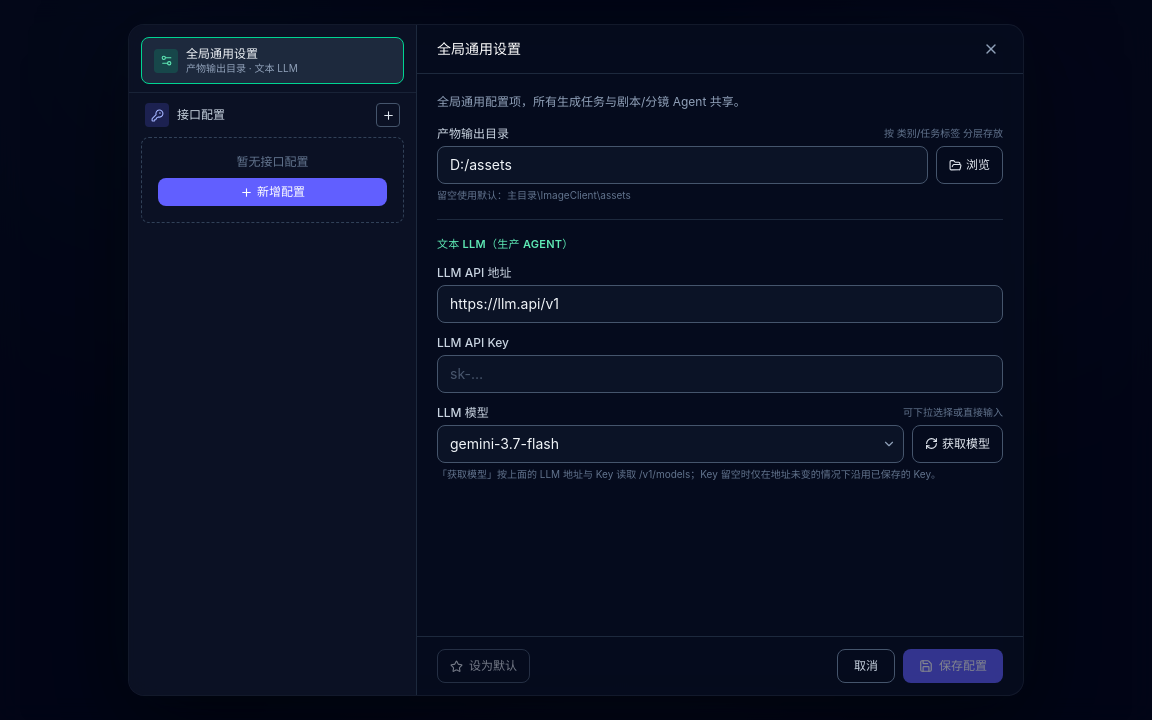
Test case: SettingsPage › fetches the LLM catalog from the global settings view
Expected: the field showing "D:/assets" is shown, [437,146,928,184]
# The form never holds the stored LLM key, so the backend borrows it.
Click the button with aria-label "获取模型（LLM 模型）" at (958, 444), box [912,424,1003,462]
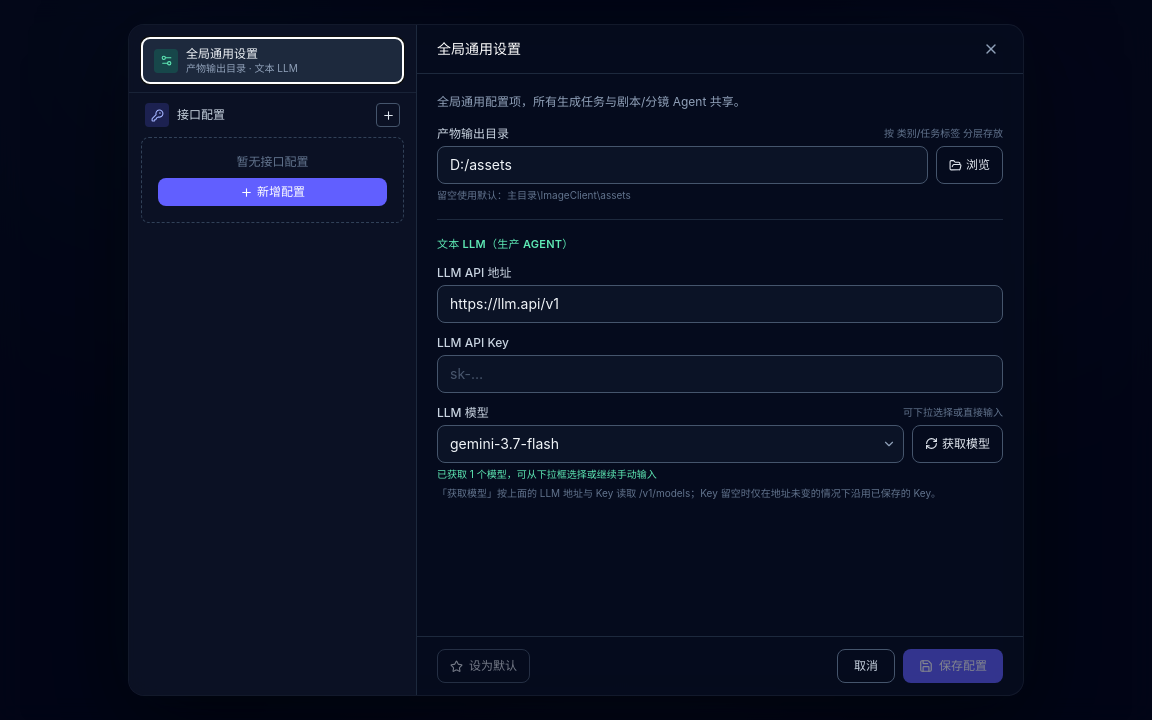
Click the button named "展开LLM 模型列表" at (889, 444), box [878,432,900,454]
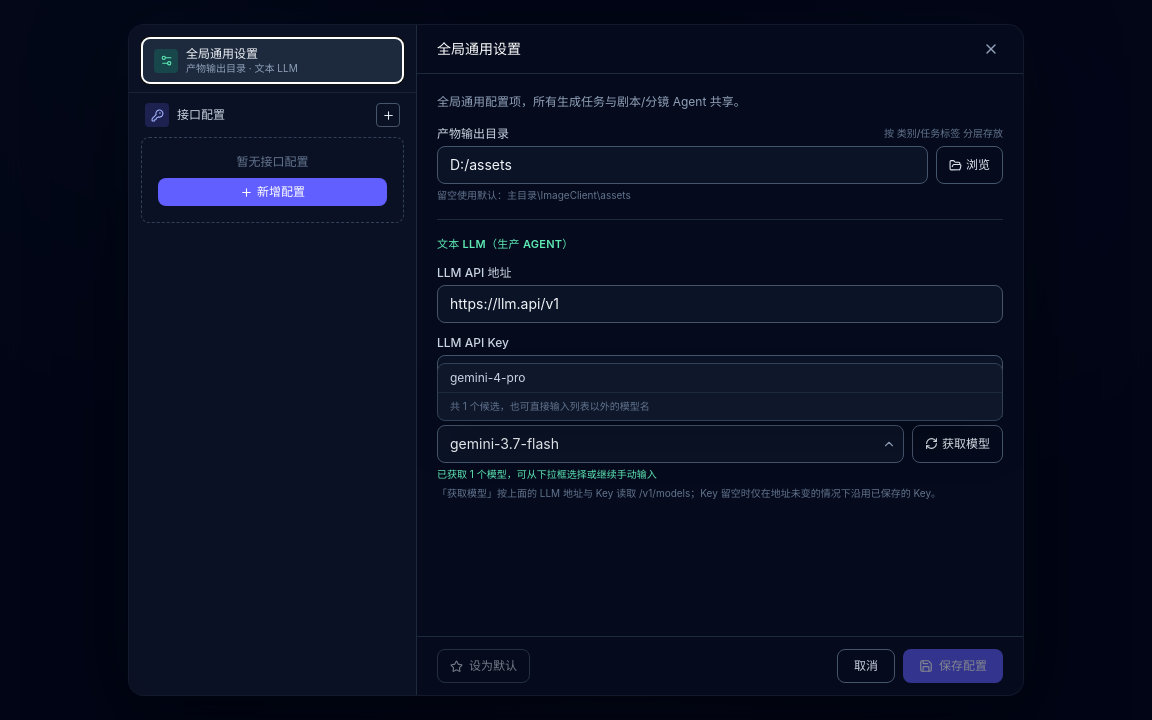
Result: the option "gemini-4-pro" is shown at [438,364,1002,392]
